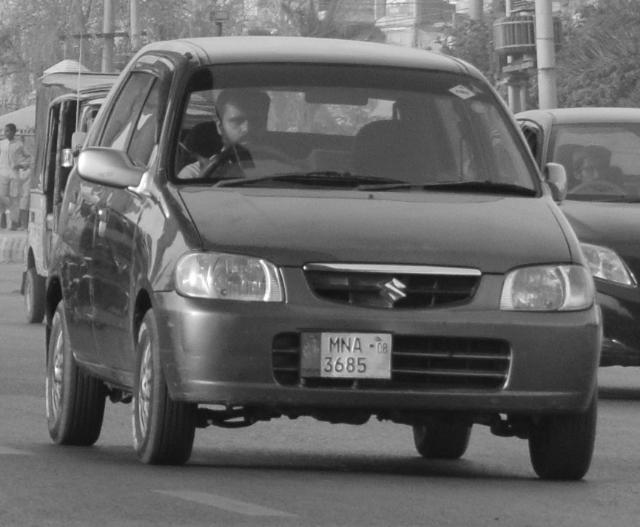Number: (324, 336, 370, 374)
